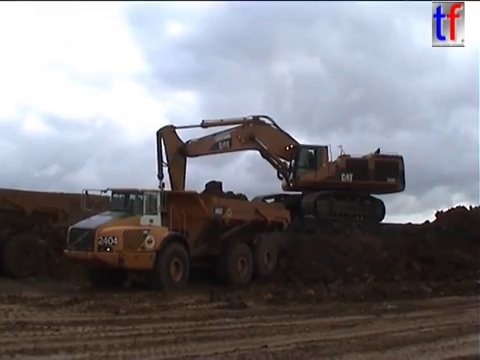excavator: (151, 113, 409, 246)
truck: (61, 179, 294, 292), (1, 185, 152, 284)
